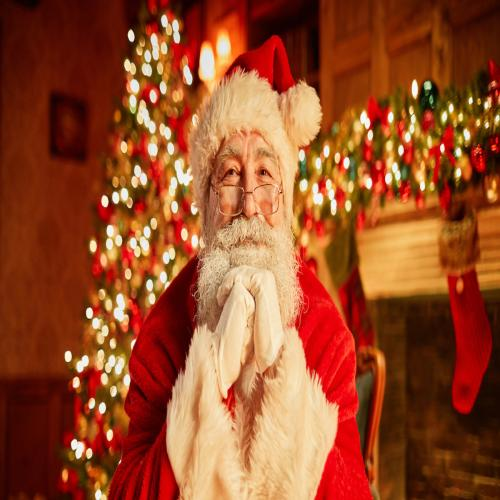Santa: (106, 34, 376, 500)
